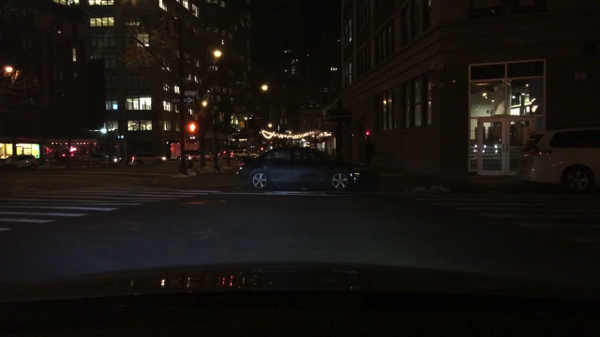car: (236, 145, 380, 191), (518, 127, 599, 190), (4, 156, 38, 169), (132, 154, 168, 164), (230, 151, 259, 161), (89, 154, 119, 162), (189, 152, 216, 160), (220, 152, 231, 160), (184, 151, 198, 157)
person: (364, 142, 377, 167)
traffic sign: (173, 96, 193, 105)
